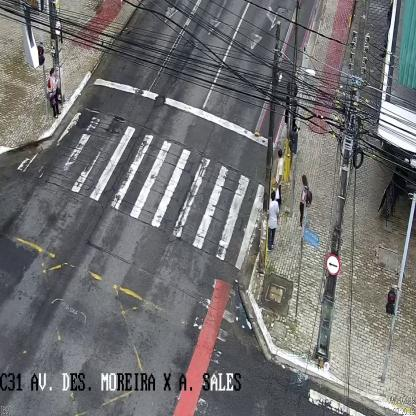person: (298, 175, 311, 230), (47, 66, 60, 119), (267, 191, 278, 251), (274, 148, 284, 207)
